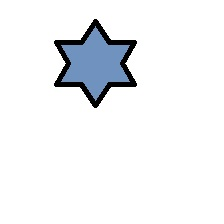star: (53, 19, 137, 109)
